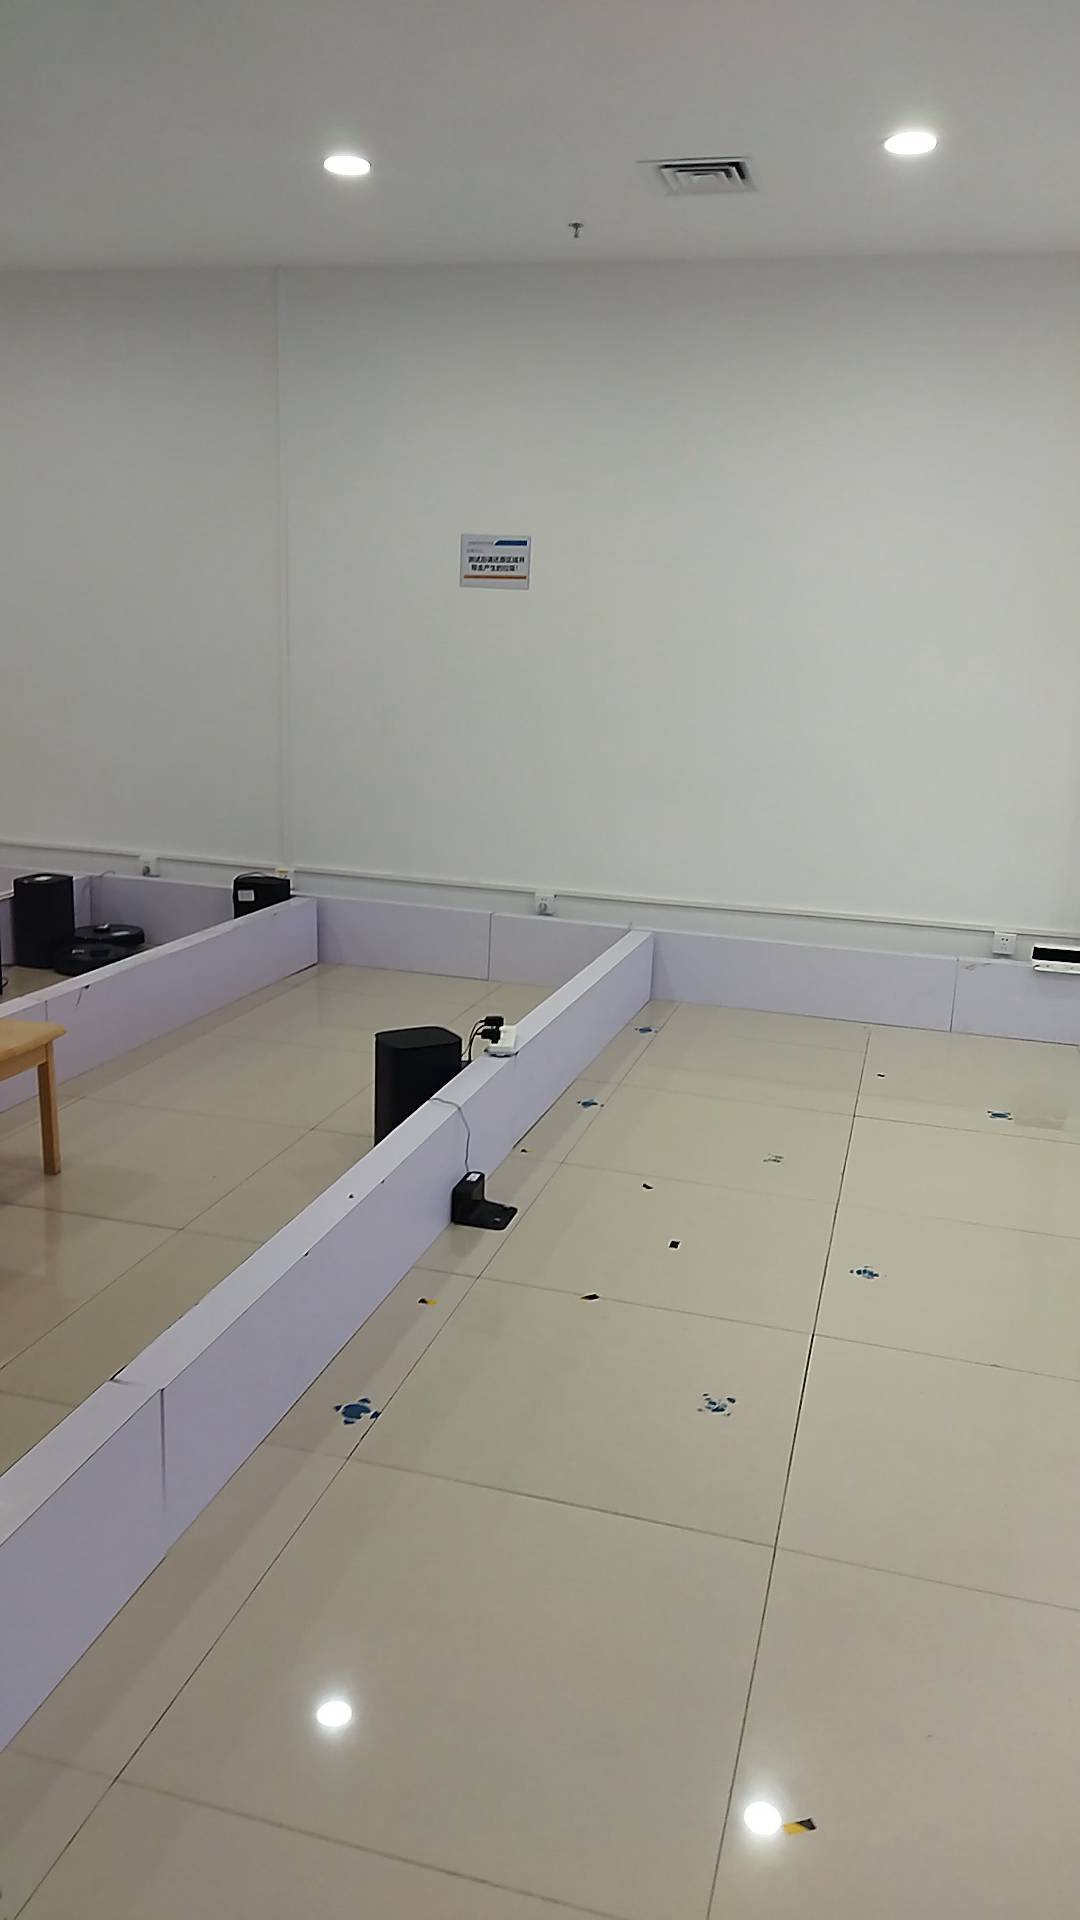dust collecting barrel: (373, 1029, 464, 1143), (9, 874, 75, 972)
recharge seat: (450, 1168, 518, 1232), (1025, 943, 1080, 981)
